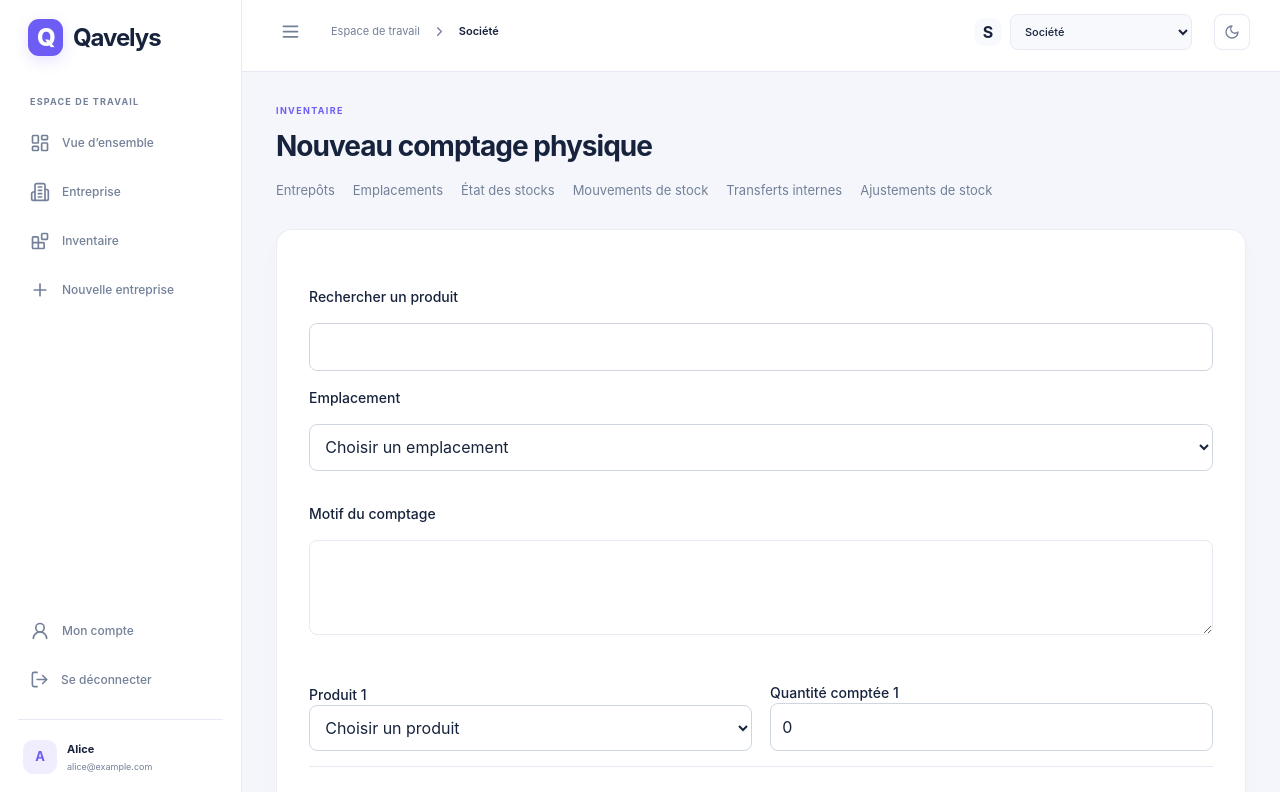
Inventaire connecté › valide un comptage exact puis recharge les soldes du backend
Select "MAIN / Stock" in the dropdown labelled "Emplacement" at {"x": 761, "y": 448}, box [309, 424, 1213, 471]
Type "Inventaire annuel" into the text box labelled "Motif du comptage".
click(761, 587); type("Inventaire annuel")  # box [309, 540, 1213, 635]
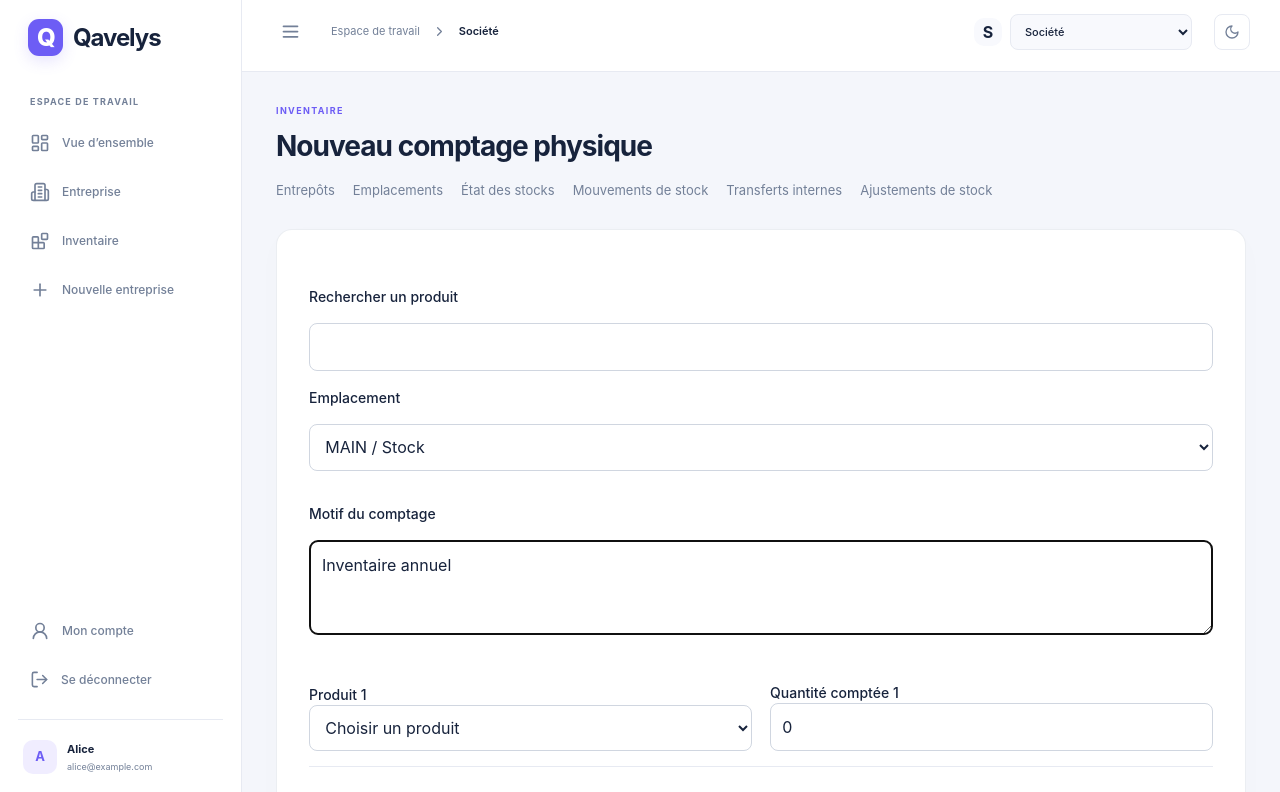
Select "ART — Article" in the dropdown labelled "Produit 1" at {"x": 530, "y": 728}, box [309, 705, 752, 751]
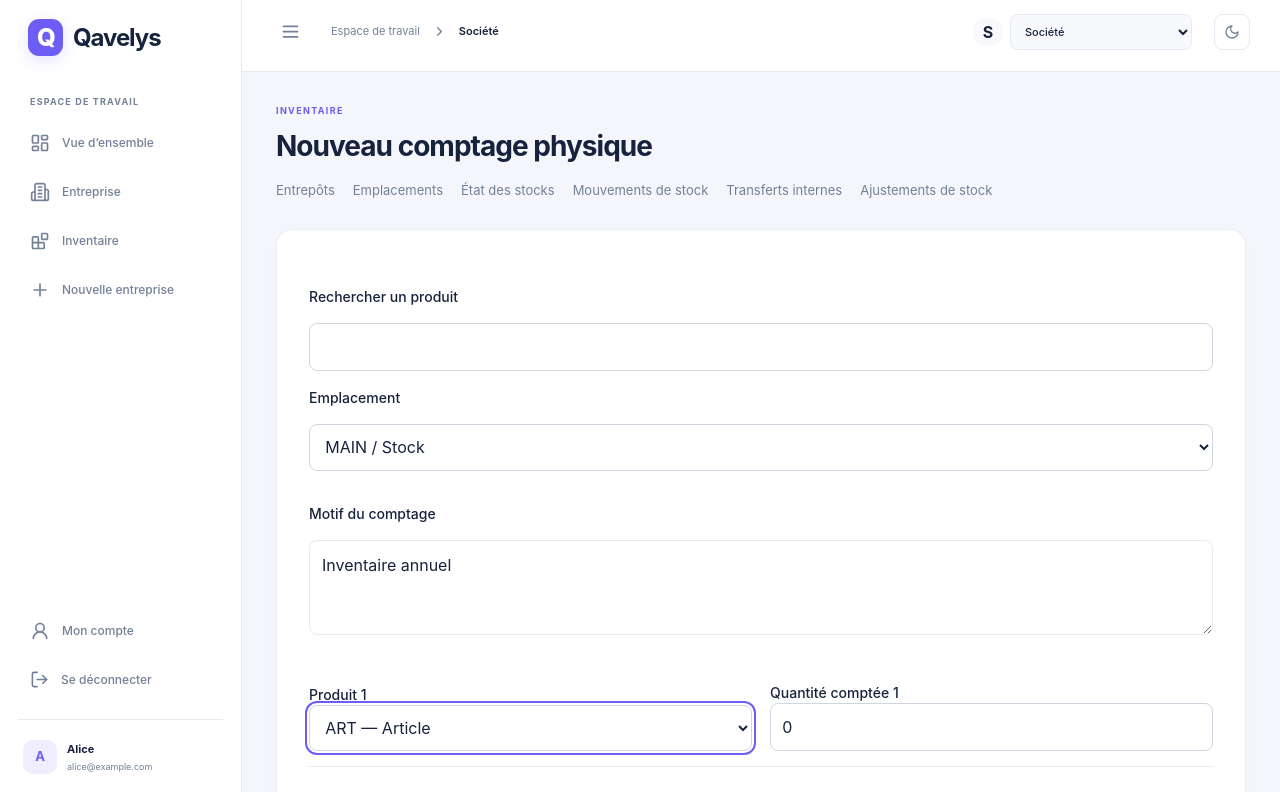
Replace the text in the field labelled "Quantité comptée 1" with "12.123456" at {"x": 992, "y": 727}, box [770, 703, 1213, 751]
(page scrolled)
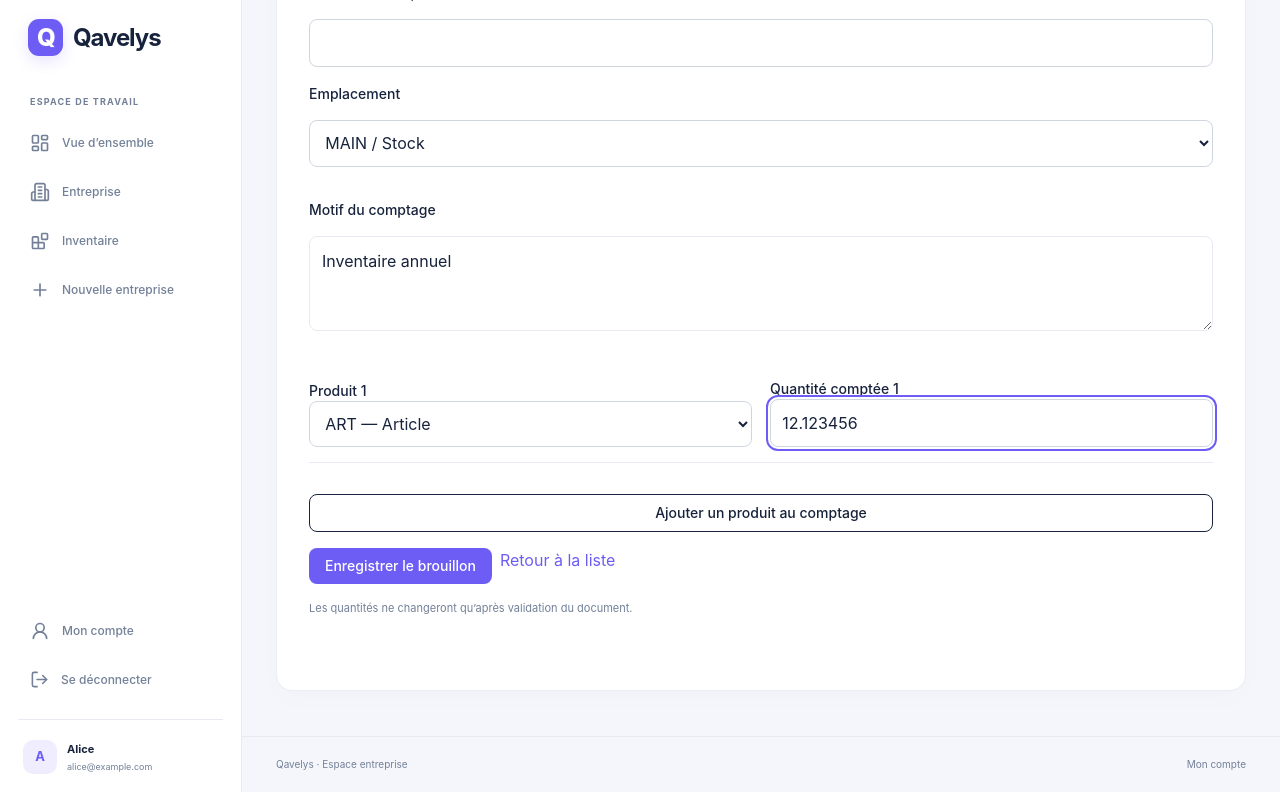
Click the button "Enregistrer le brouillon".
click(400, 566)  # box [309, 548, 492, 584]
(page scrolled)
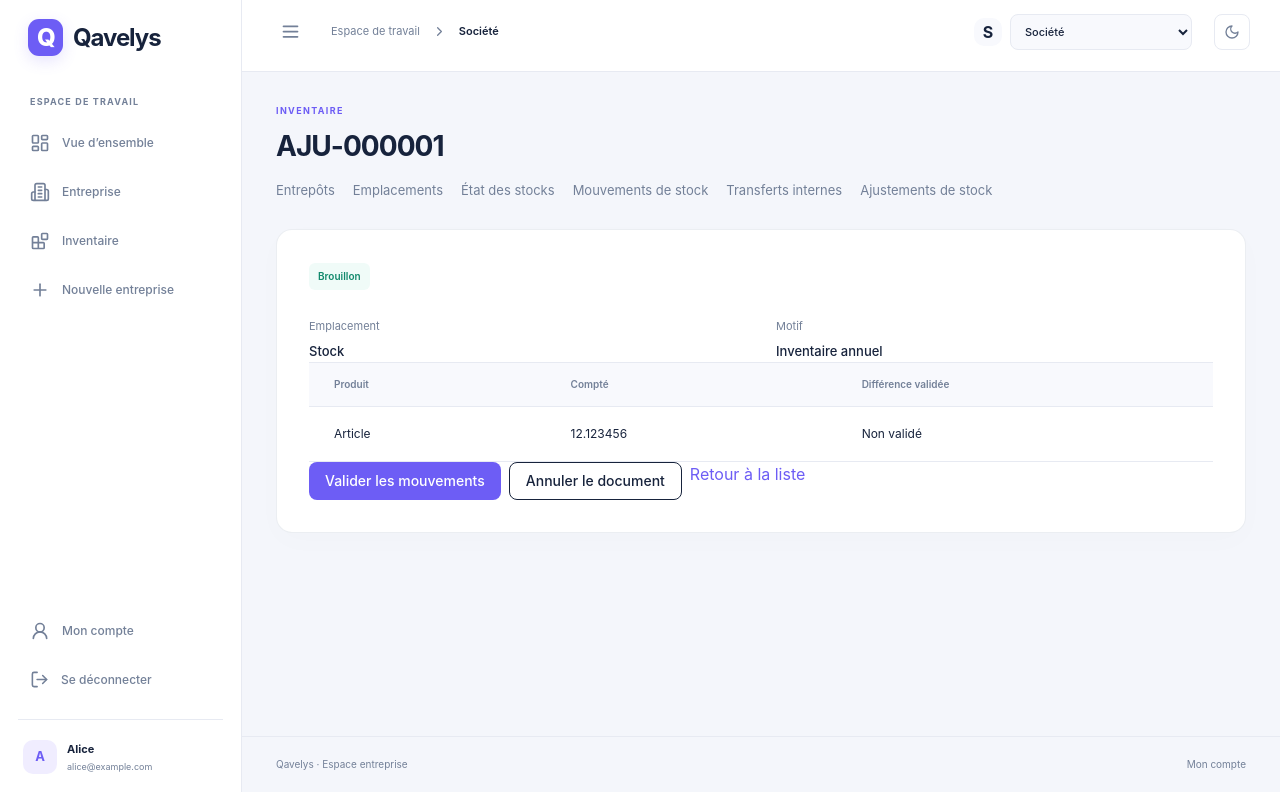
Check: the heading "AJU-000001" is shown, box [276, 129, 444, 163]
Click the button "Valider les mouvements".
click(405, 481)  # box [309, 462, 501, 500]
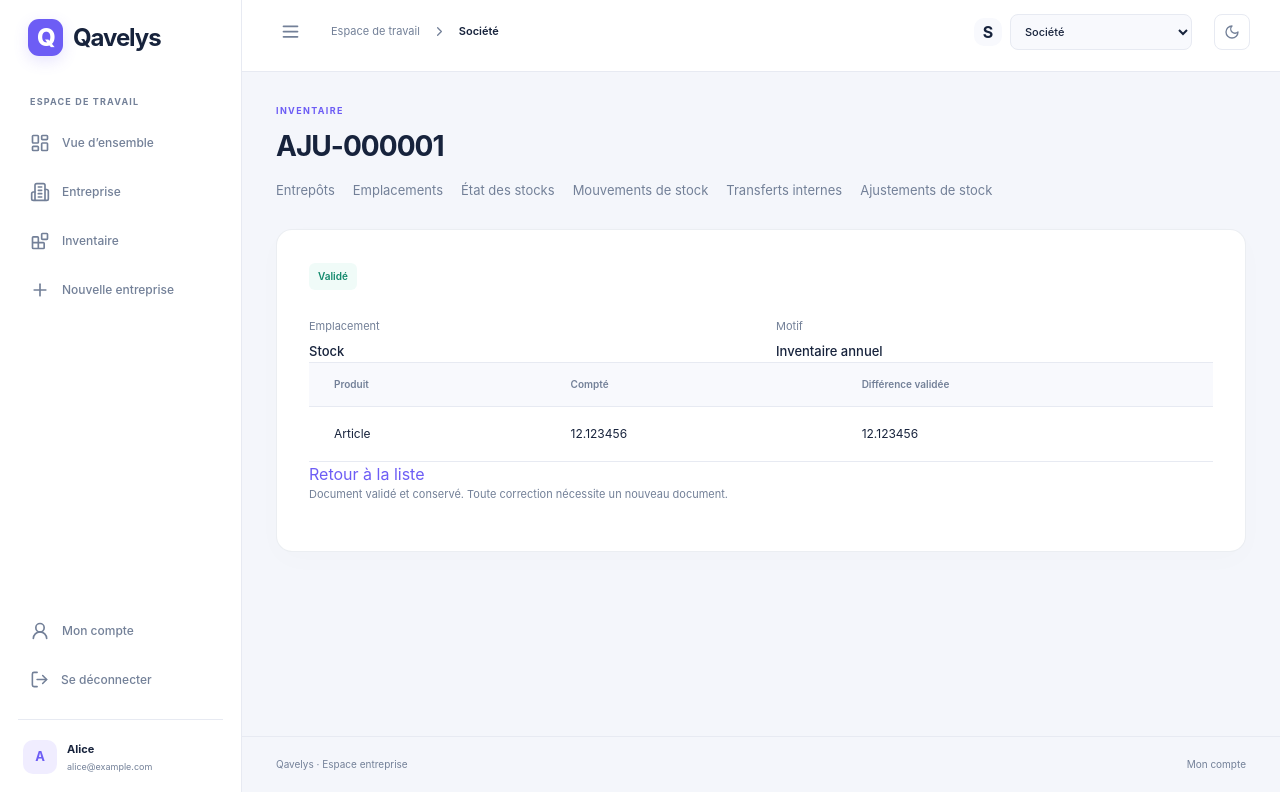
Check: the text "Validé" is shown, box [309, 263, 357, 290]
Click the link "État des stocks".
click(508, 191)  # box [461, 181, 555, 201]
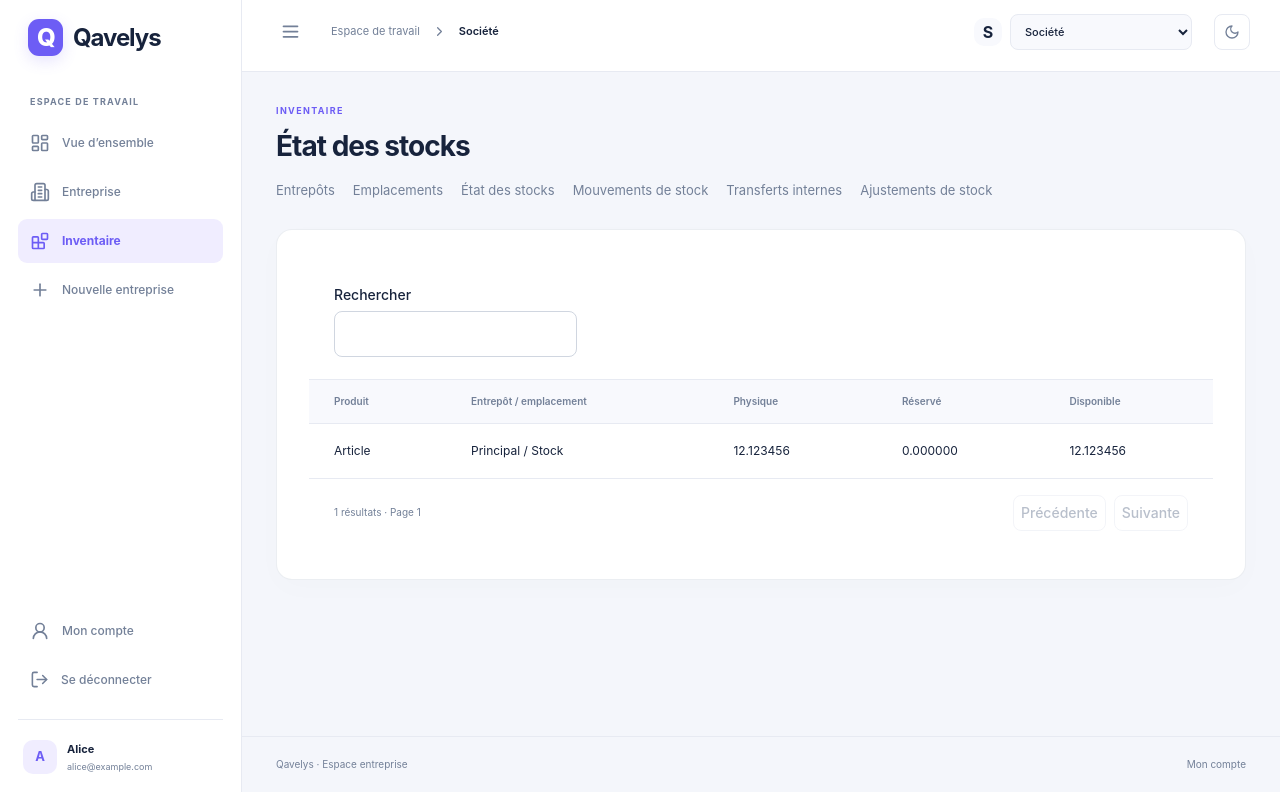
Check: the cell "Article" is shown, box [309, 423, 446, 478]
Check: the number of cells "12.123456" is 2, box [708, 423, 877, 478]; [1044, 423, 1213, 478]
